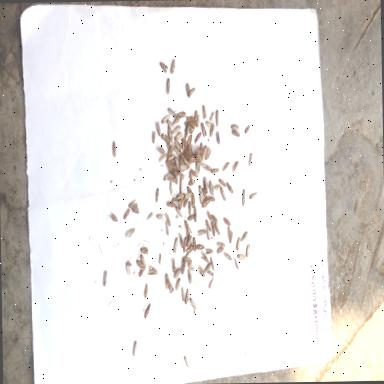pbw: (125, 196, 138, 210), (184, 218, 194, 236), (108, 210, 119, 226), (170, 236, 178, 258), (180, 254, 188, 276), (124, 226, 136, 240), (160, 132, 172, 146), (200, 248, 210, 264), (188, 296, 198, 312), (170, 256, 178, 276), (174, 202, 184, 218), (146, 265, 160, 276), (196, 264, 207, 278), (164, 77, 172, 96), (220, 184, 228, 202), (231, 158, 240, 174), (134, 258, 146, 270), (141, 282, 150, 298), (122, 206, 131, 222), (166, 280, 174, 298), (125, 260, 133, 278), (138, 244, 151, 255), (130, 338, 137, 358), (242, 122, 252, 136), (154, 146, 168, 156), (174, 109, 188, 119), (167, 125, 174, 145), (184, 120, 194, 134), (187, 86, 197, 100), (204, 260, 214, 274), (167, 105, 177, 119), (186, 134, 194, 151), (184, 352, 192, 369), (213, 108, 220, 127), (177, 176, 184, 195), (159, 112, 170, 124), (174, 129, 184, 142), (240, 228, 248, 244), (244, 243, 252, 259), (164, 210, 172, 226), (206, 206, 214, 222), (186, 234, 194, 250), (188, 116, 196, 132), (173, 266, 182, 280), (185, 81, 192, 99), (241, 187, 247, 208), (165, 158, 174, 172), (236, 234, 243, 252), (200, 120, 207, 138), (172, 168, 179, 186), (195, 158, 202, 176), (216, 238, 227, 249), (160, 60, 168, 75), (102, 268, 108, 288), (202, 160, 212, 172), (184, 112, 196, 122), (184, 286, 190, 306), (192, 234, 198, 254), (132, 204, 142, 216), (172, 124, 182, 136), (186, 266, 192, 286), (201, 144, 207, 164), (184, 242, 194, 254), (174, 277, 182, 292), (209, 121, 216, 138), (224, 250, 233, 263), (138, 265, 147, 278), (210, 219, 216, 238), (202, 103, 208, 122), (178, 192, 184, 211), (192, 206, 198, 225), (214, 220, 221, 236), (173, 140, 181, 154), (207, 180, 214, 196), (140, 254, 147, 270), (206, 146, 213, 162), (182, 154, 190, 168), (204, 218, 212, 232), (211, 211, 219, 225), (208, 274, 216, 288), (188, 170, 196, 184), (248, 190, 258, 201), (214, 245, 224, 256), (230, 128, 240, 139), (166, 199, 176, 210), (209, 166, 220, 176), (155, 118, 161, 136), (174, 154, 180, 172), (154, 186, 160, 204), (212, 180, 221, 192), (223, 216, 232, 228), (111, 140, 117, 158), (179, 232, 185, 250), (182, 236, 188, 254), (159, 152, 168, 164), (191, 192, 197, 210), (219, 176, 228, 188), (201, 186, 208, 201), (152, 125, 157, 146), (146, 208, 154, 221), (182, 195, 190, 208), (226, 181, 234, 194), (170, 58, 176, 75), (180, 136, 186, 153), (210, 255, 216, 272), (196, 145, 202, 162), (237, 251, 247, 261), (230, 122, 240, 132), (183, 254, 193, 264), (188, 154, 198, 164), (176, 191, 186, 201), (176, 196, 186, 206), (177, 163, 188, 172), (196, 227, 207, 236), (176, 170, 187, 179), (163, 169, 171, 181), (248, 152, 254, 168), (164, 272, 170, 288), (180, 286, 186, 302), (216, 129, 222, 145), (172, 114, 180, 126), (188, 260, 196, 272), (166, 118, 174, 130), (195, 132, 203, 144), (168, 180, 174, 196), (228, 230, 234, 246), (193, 106, 198, 125), (188, 199, 193, 217), (202, 180, 208, 195), (187, 212, 196, 222), (157, 251, 163, 266), (198, 183, 204, 198), (195, 243, 206, 251), (203, 246, 214, 254), (207, 195, 218, 203), (222, 161, 230, 172), (196, 113, 201, 130), (205, 225, 210, 242), (186, 185, 193, 197), (204, 175, 210, 189), (173, 146, 180, 158), (206, 118, 213, 130), (206, 269, 215, 278), (183, 134, 188, 150), (184, 190, 192, 200), (191, 168, 199, 178), (227, 224, 232, 240), (171, 196, 181, 204), (169, 174, 177, 184), (234, 257, 240, 270), (169, 152, 176, 163), (198, 192, 204, 204), (188, 178, 197, 186), (166, 218, 170, 236), (208, 109, 213, 122), (156, 212, 164, 220), (190, 143, 195, 155), (188, 142, 192, 156), (184, 150, 189, 160)
